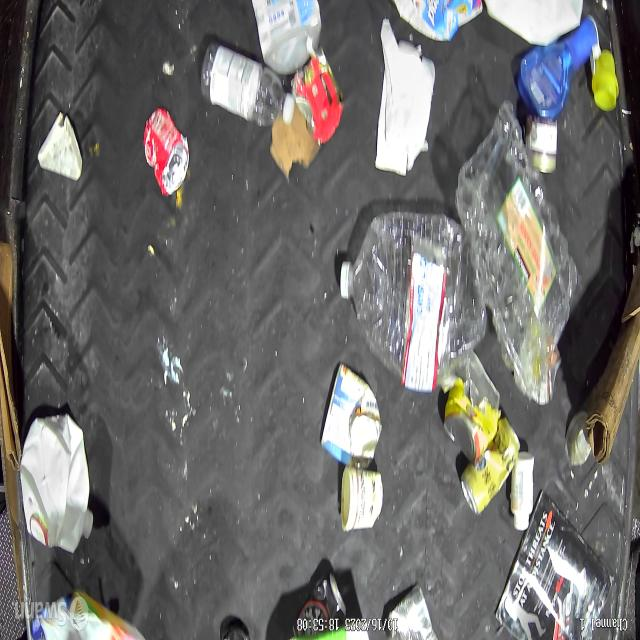can: (444, 350, 501, 464), (460, 417, 521, 516), (290, 46, 344, 145), (143, 106, 189, 197), (292, 572, 346, 635), (341, 468, 384, 532), (388, 584, 434, 640), (524, 117, 558, 172), (534, 348, 562, 406)
milk_jug: (20, 413, 94, 554), (251, 0, 321, 75)
plastic_bottle: (340, 212, 486, 393), (200, 40, 295, 127)
